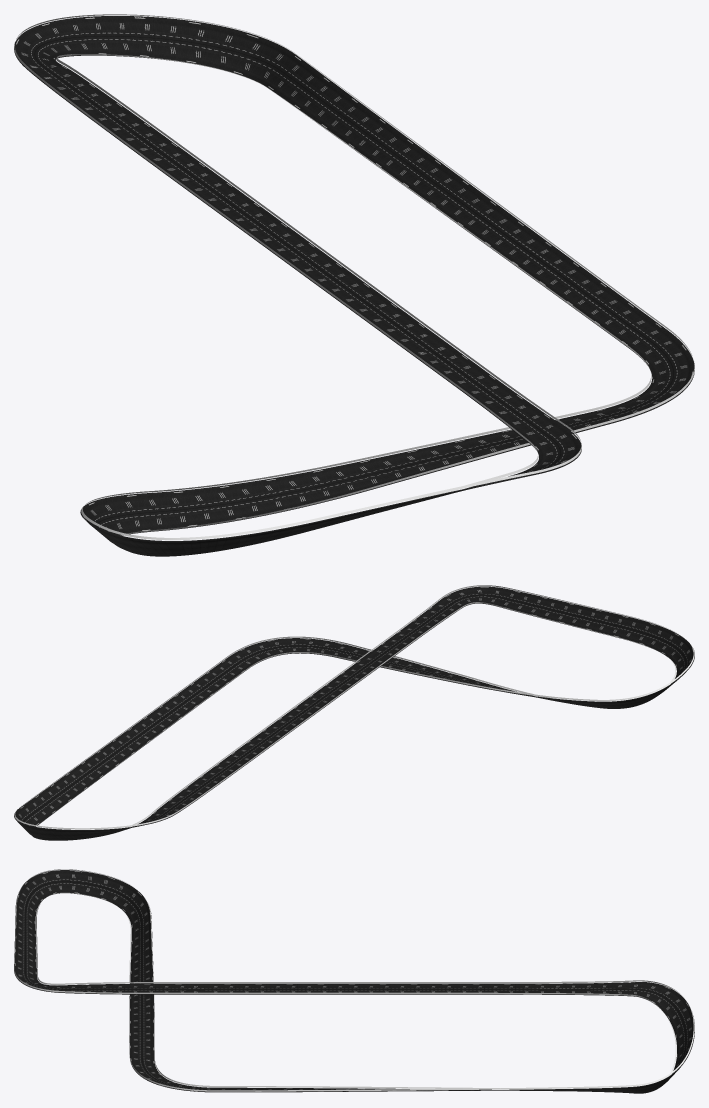
File: Track_02.fbx_Unity.fbx
3 views of the same model, one above another, from view 1: azimuth 30°, elevation 25°; view 2: azimuth 150°, elevation 25°; view 3: azimuth 270°, elevation 25° (orthographic). The views are drawn at different scales.
Parts seen in each view (by area): view 1: Track.001, Track_Border_Energy.001; view 2: Track.001, Track_Border_Energy.001; view 3: Track.001, Track_Border_Energy.001.
Boxes of the visible parts, box(x1,y1,x2,y2) form: Track.001: box(14, 16, 694, 556); Track_Border_Energy.001: box(14, 14, 694, 540); Track.001: box(14, 586, 694, 840); Track_Border_Energy.001: box(14, 585, 694, 829); Track.001: box(14, 870, 694, 1093); Track_Border_Energy.001: box(14, 869, 694, 1091).
Bounding box in the file's own units: 57654 × 7290 × 87601.
